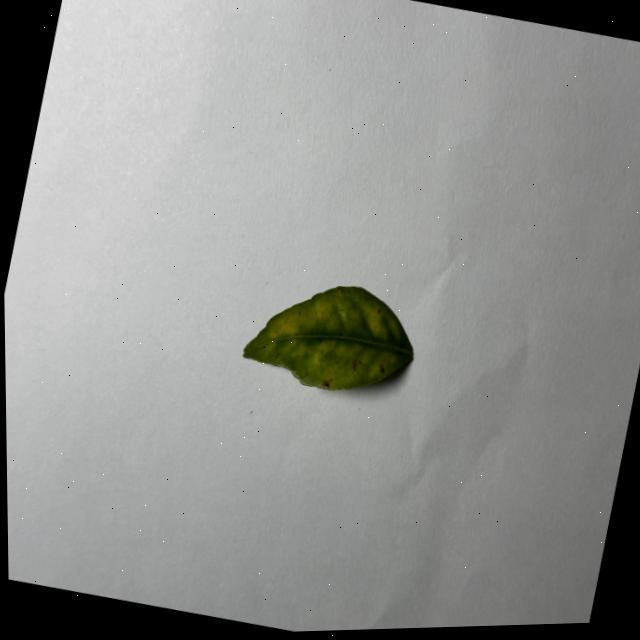greening: (242, 286, 411, 390)
